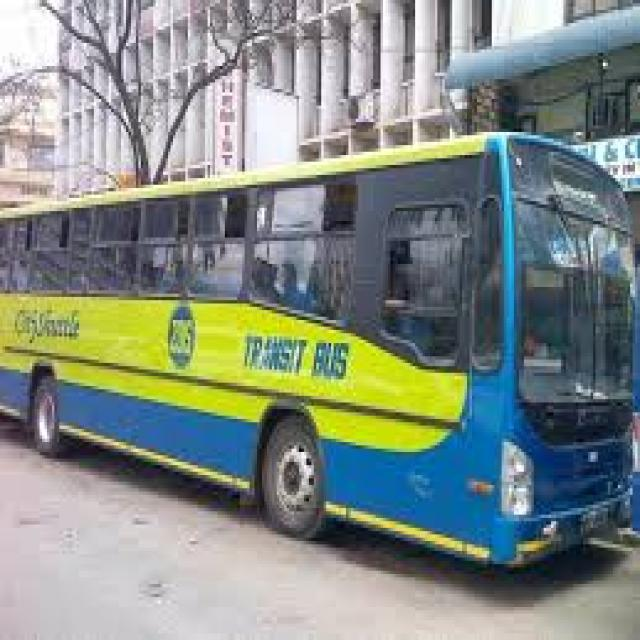bus: (1, 66, 640, 582)
